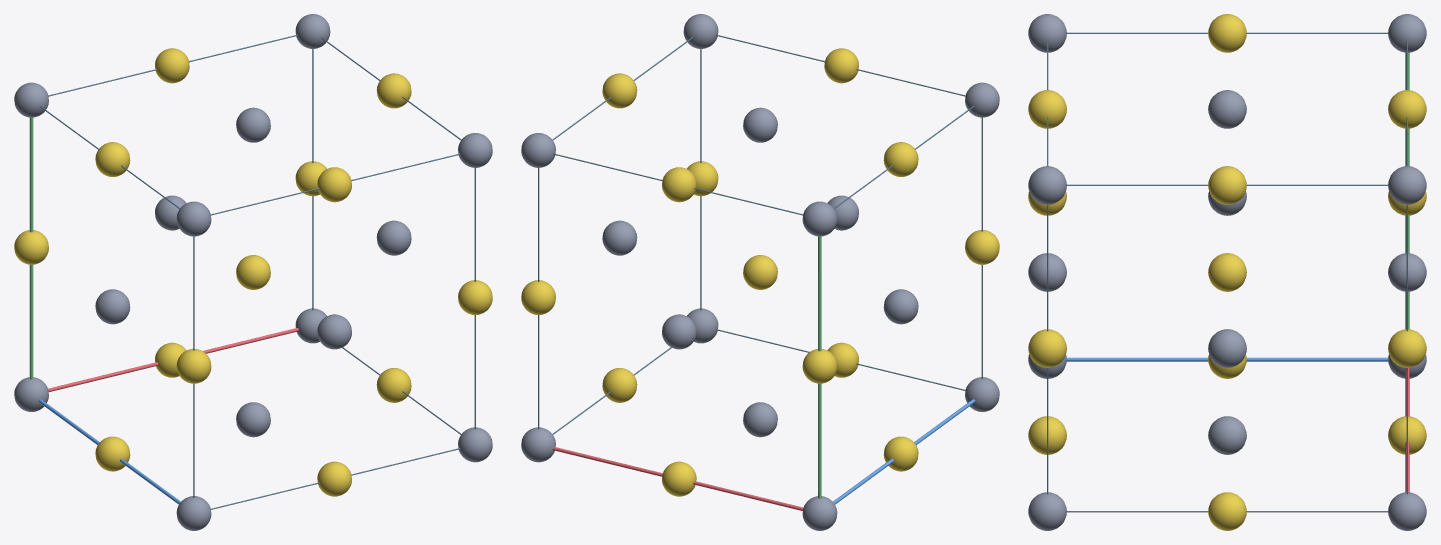
File: galena.glb
3 renders of one model, left to right at view 1: azimuth 30°, elevation 25°; view 2: azimuth 150°, elevation 25°; view 3: azimuth 270°, elevation 25°, orthographic. The views are drawn at different scales.
Visible parts, largest first — view 1: Pb · Pb · 1 (×14), S · S · 1 (×13), Ô mạng và các trục a, b, c; view 2: Pb · Pb · 1 (×14), S · S · 1 (×13), Ô mạng và các trục a, b, c; view 3: Pb · Pb · 1 (×11), S · S · 1 (×10), Ô mạng và các trục a, b, c.
Boxes of the visible parts, x1,y1,x2,y2 form: Pb · Pb · 1 (×14): [14, 14, 492, 530]; S · S · 1 (×13): [14, 48, 492, 496]; Ô mạng và các trục a, b, c: [29, 34, 475, 509]; Pb · Pb · 1 (×14): [521, 14, 999, 530]; S · S · 1 (×13): [521, 48, 999, 496]; Ô mạng và các trục a, b, c: [538, 34, 982, 510]; Pb · Pb · 1 (×11): [1028, 14, 1426, 530]; S · S · 1 (×10): [1028, 14, 1426, 530]; Ô mạng và các trục a, b, c: [1047, 32, 1409, 512].
Size of the model in its own units: 6.57 by 6.57 by 6.57.
